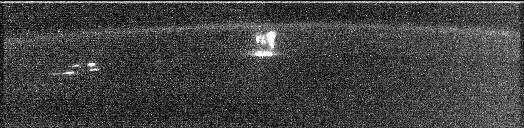positive: (251, 31, 278, 49)
